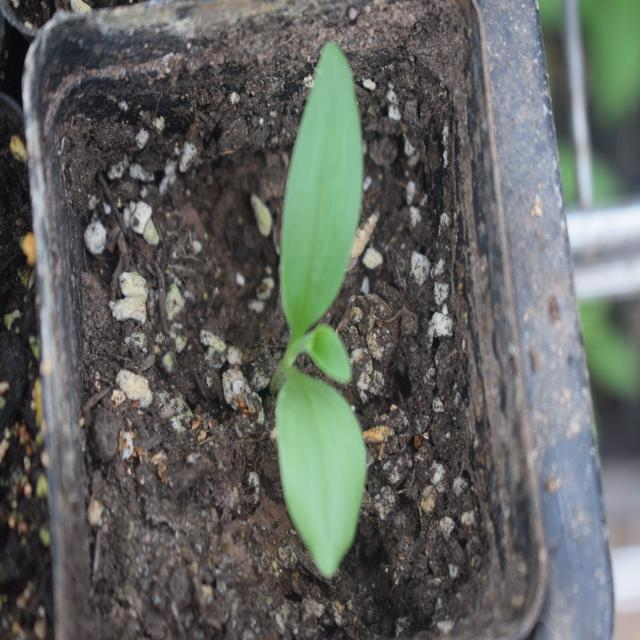Common Dayflower: (266, 57, 378, 588)
